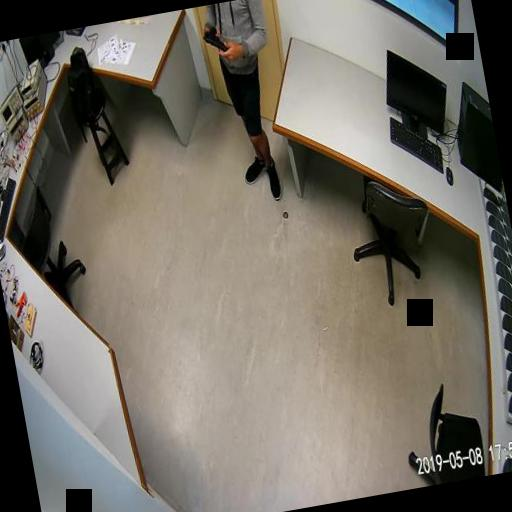Handgun: (200, 23, 228, 54)
